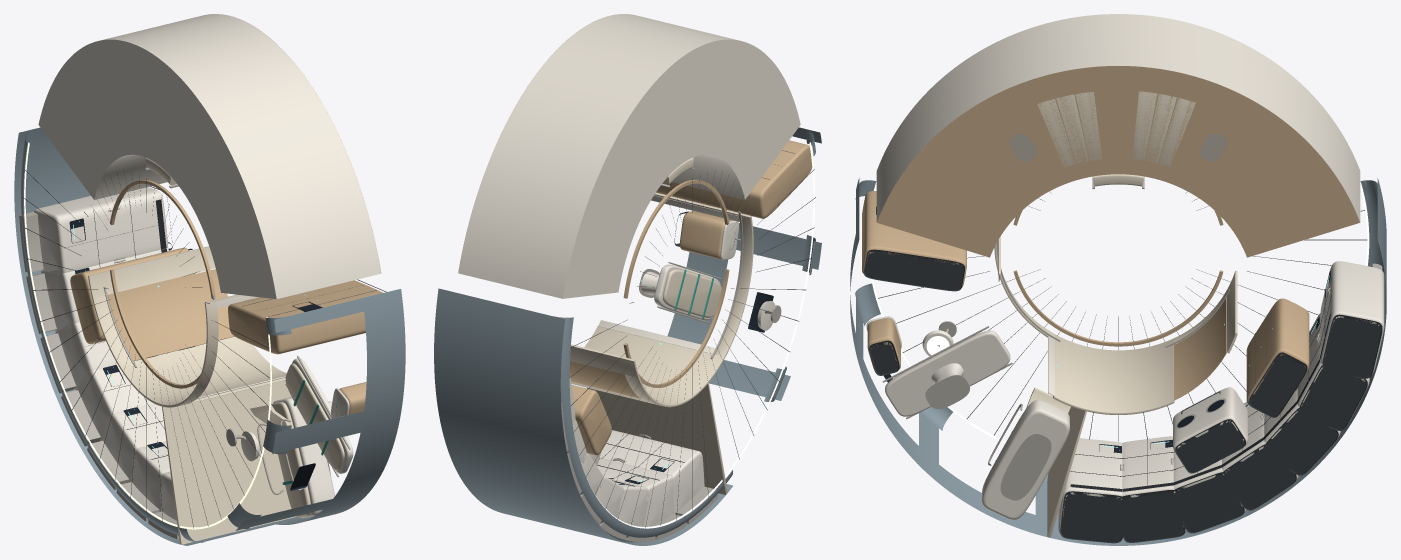
Rendered from proposal_L4.glb.
The picture shows the model from 3 angles, left to right: view 1: azimuth 30°, elevation 25°; view 2: azimuth 150°, elevation 25°; view 3: azimuth 270°, elevation 25°; orthographic projection.
Visible parts, largest first — view 1: proposal:L4_S7_shelter_lining, proposal:L4_P0_walls, proposal:L4_R_racks, proposal:L4_D3_lining, proposal:L4_M3_cabinets_pharmacy, proposal:L4_M1_treatment_table, proposal:L4_M2_recovery_bed, proposal:L4_R9_spares, proposal:L4_D2_overhead_rail, proposal:L4_D1_lighting, proposal:L4_M5_decon_sink_terminal; view 2: proposal:L4_S7_shelter_lining, proposal:L4_D3_lining, proposal:L4_P0_walls, proposal:L4_R_racks, proposal:L4_M1_treatment_table, proposal:L4_M3_cabinets_pharmacy, proposal:L4_M5_decon_sink_terminal, proposal:L4_D2_overhead_rail, proposal:L4_R9_spares, proposal:L4_D1_lighting; view 3: proposal:L4_S7_shelter_lining, proposal:L4_R_racks, proposal:L4_P0_walls, proposal:L4_D3_lining, proposal:L4_M1_treatment_table, proposal:L4_S3_soft_floor, proposal:L4_M2_recovery_bed, proposal:L4_M3_cabinets_pharmacy, proposal:L4_R9_spares, proposal:L4_R8_laundry, proposal:L4_S6_storm_lockers, proposal:L4_M5_decon_sink_terminal (+2 smaller).
Part boxes in pixels (box(x1,y1,x2,y2)): proposal:L4_S7_shelter_lining: box(38, 14, 381, 299); proposal:L4_P0_walls: box(88, 246, 296, 544); proposal:L4_R_racks: box(19, 186, 178, 539); proposal:L4_D3_lining: box(14, 127, 405, 545); proposal:L4_M3_cabinets_pharmacy: box(228, 279, 386, 354); proposal:L4_M1_treatment_table: box(226, 356, 353, 490); proposal:L4_M2_recovery_bed: box(250, 397, 334, 518); proposal:L4_R9_spares: box(70, 247, 195, 344); proposal:L4_D2_overhead_rail: box(110, 180, 215, 388); proposal:L4_D1_lighting: box(24, 142, 271, 529); proposal:L4_M5_decon_sink_terminal: box(331, 382, 366, 418); proposal:L4_S7_shelter_lining: box(458, 14, 800, 298); proposal:L4_D3_lining: box(434, 127, 821, 545); proposal:L4_P0_walls: box(569, 192, 753, 494); proposal:L4_R_racks: box(561, 378, 718, 542); proposal:L4_M1_treatment_table: box(639, 262, 781, 332); proposal:L4_M3_cabinets_pharmacy: box(656, 140, 812, 218); proposal:L4_M5_decon_sink_terminal: box(674, 211, 740, 260); proposal:L4_D2_overhead_rail: box(623, 179, 729, 387); proposal:L4_R9_spares: box(571, 385, 611, 455); proposal:L4_D1_lighting: box(571, 142, 814, 528); proposal:L4_S7_shelter_lining: box(876, 14, 1360, 257); proposal:L4_R_racks: box(1058, 261, 1384, 543); proposal:L4_P0_walls: box(994, 236, 1237, 537); proposal:L4_D3_lining: box(850, 178, 1386, 545); proposal:L4_M1_treatment_table: box(882, 321, 1012, 419); proposal:L4_S3_soft_floor: box(1037, 91, 1195, 167); proposal:L4_M2_recovery_bed: box(982, 387, 1070, 519); proposal:L4_M3_cabinets_pharmacy: box(862, 191, 966, 291); proposal:L4_R9_spares: box(1246, 298, 1309, 417); proposal:L4_R8_laundry: box(1173, 387, 1247, 473); proposal:L4_S6_storm_lockers: box(892, 209, 1344, 251); proposal:L4_M5_decon_sink_terminal: box(866, 316, 901, 375).
Size of the model in its own units: 2.3 by 8.1 by 8.3.
